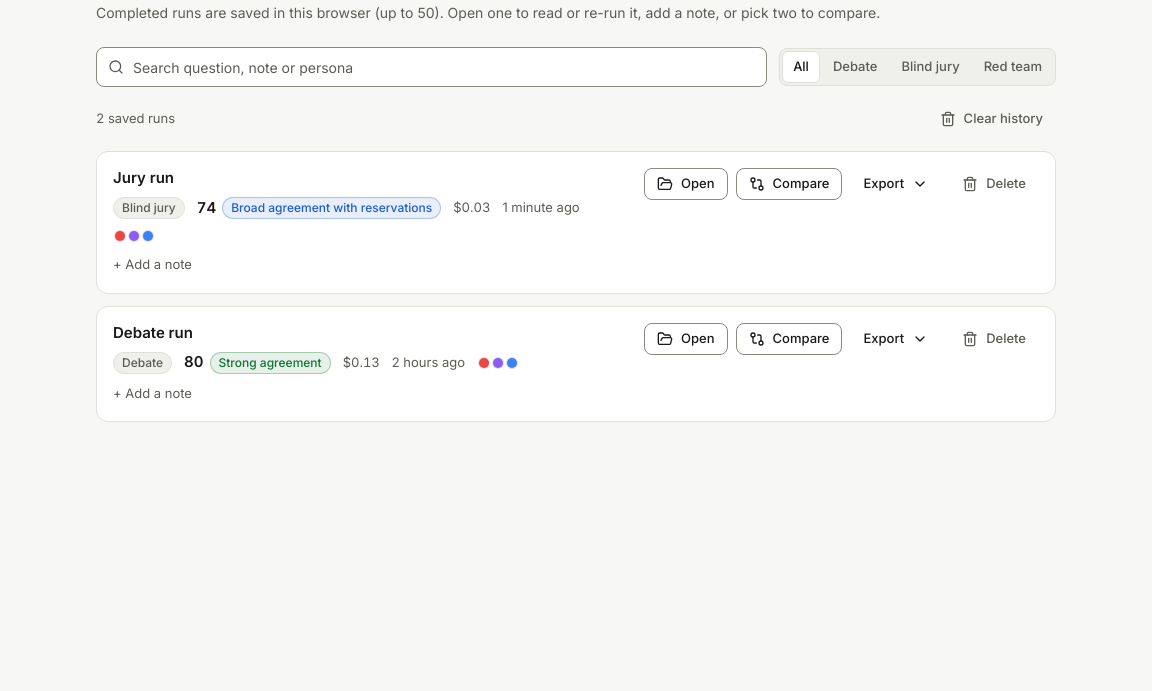
Test: HistoryView › clears history and any open comparison
Click the button "Compare" in the row of "74": (789, 184) [736, 168, 842, 200]
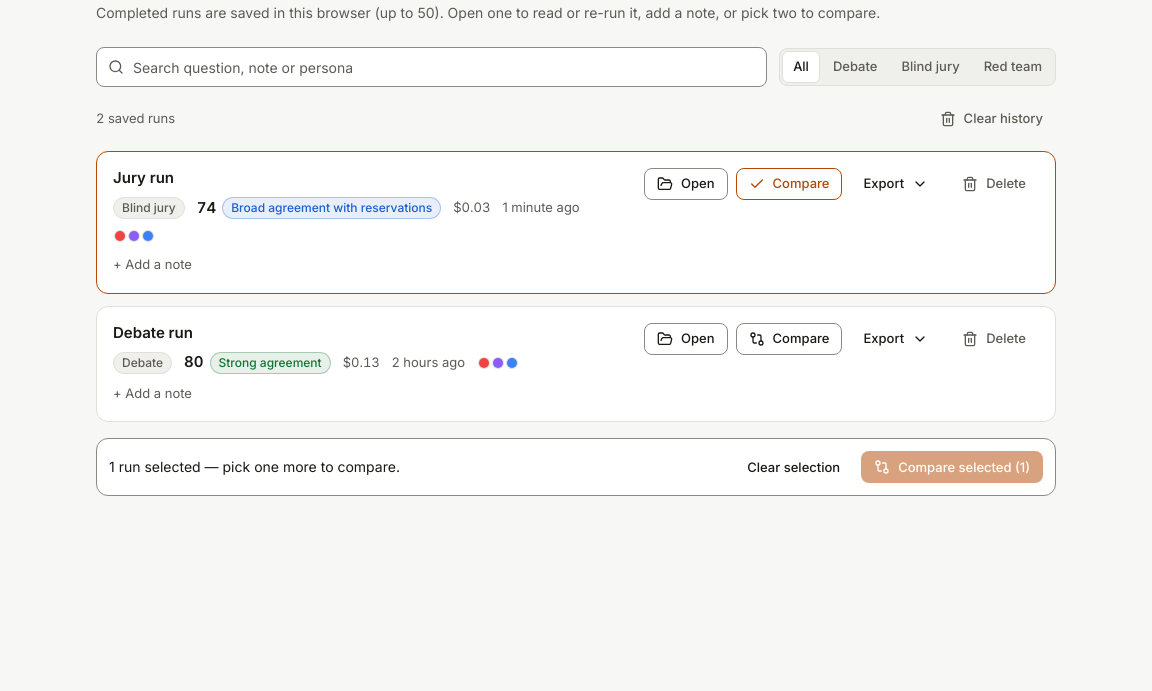
Click the button "Compare" in the row of "80": (789, 339) [736, 323, 842, 355]
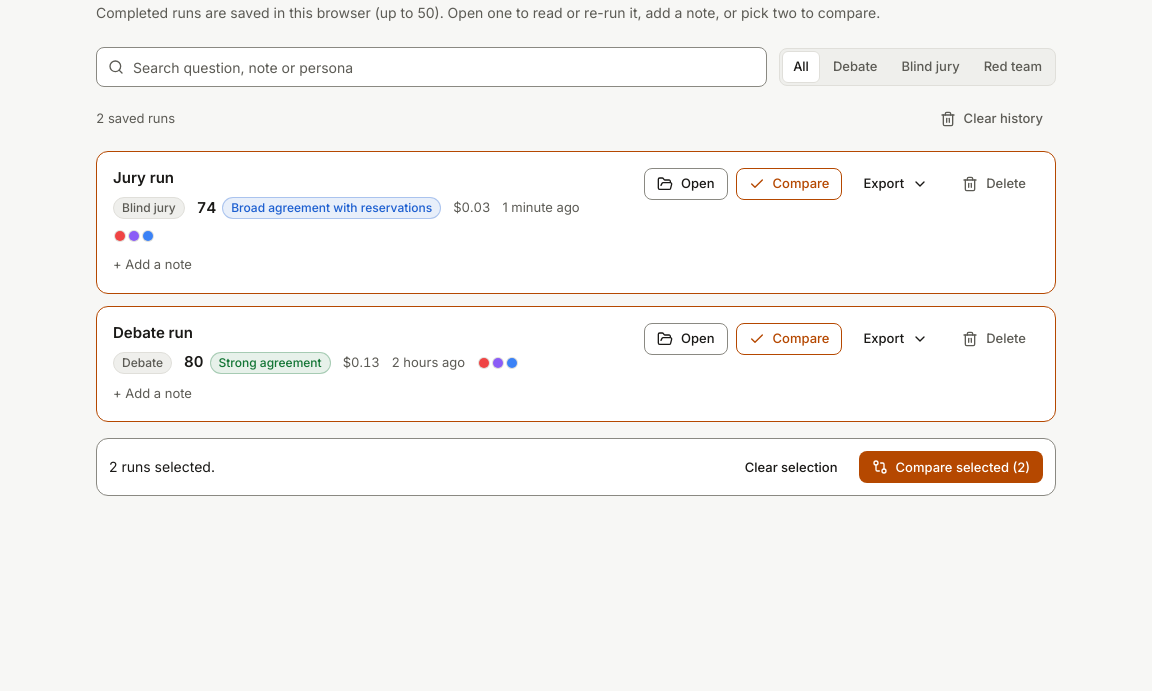
Click the button "Compare selected (2)": (951, 467) [858, 451, 1043, 483]
(page scrolled)
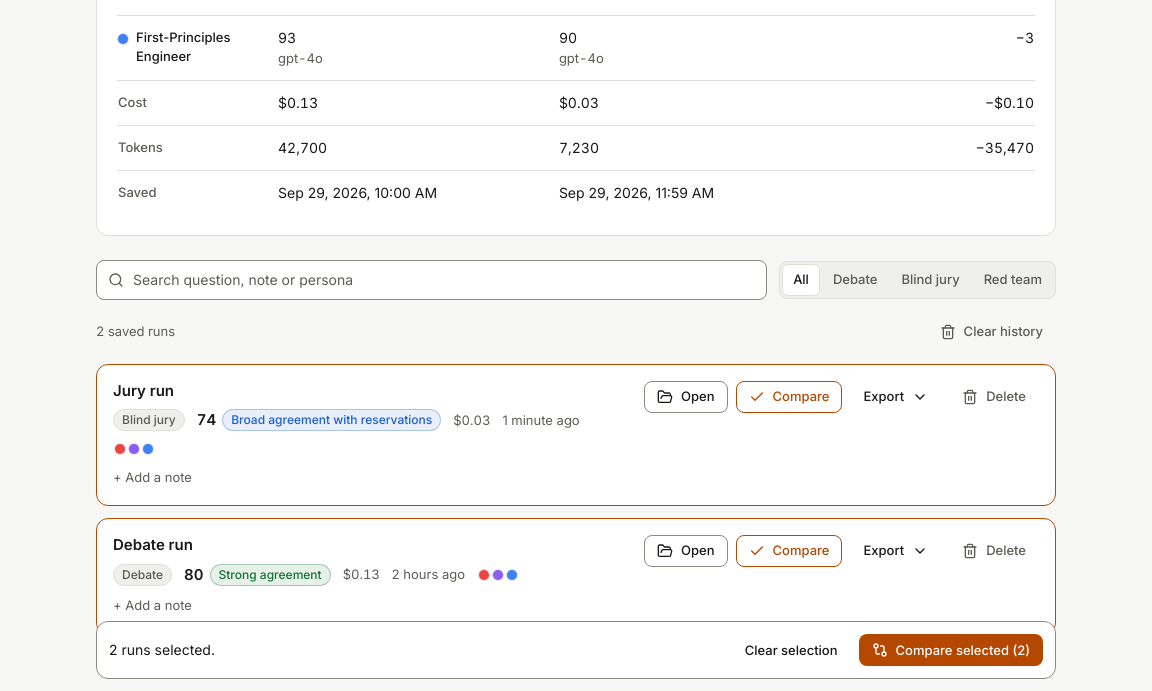
Click the button "Clear history": (991, 332) [927, 316, 1056, 348]
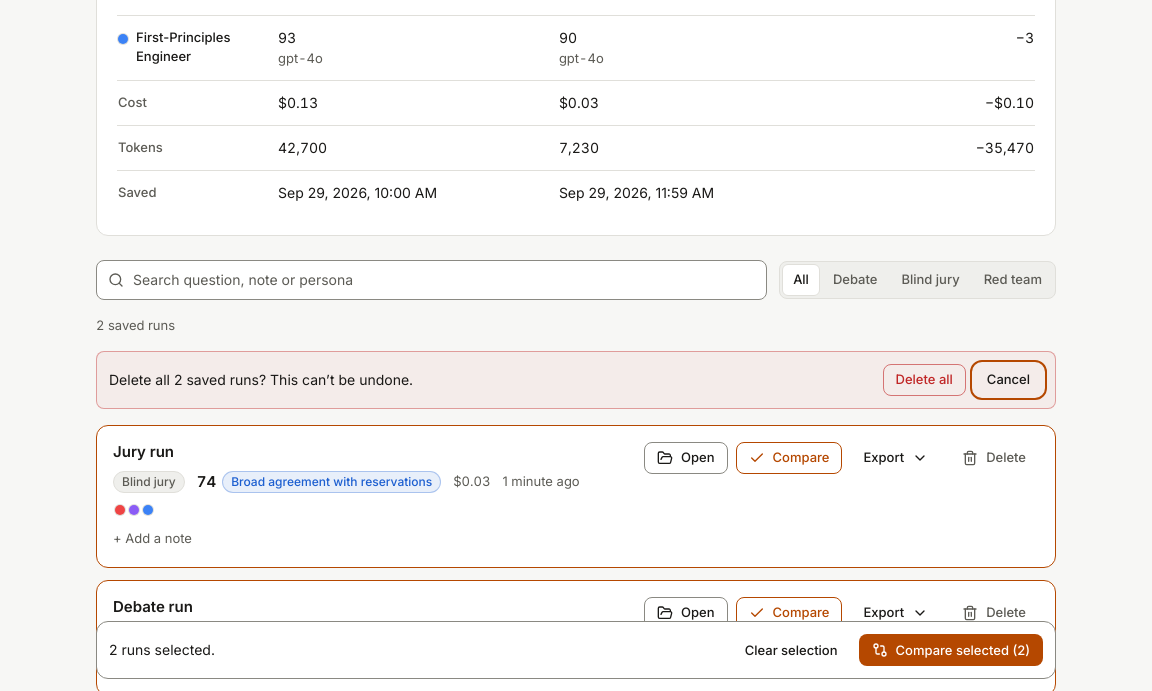
Click the button "Delete all": (924, 380) [883, 364, 966, 396]
(page scrolled)
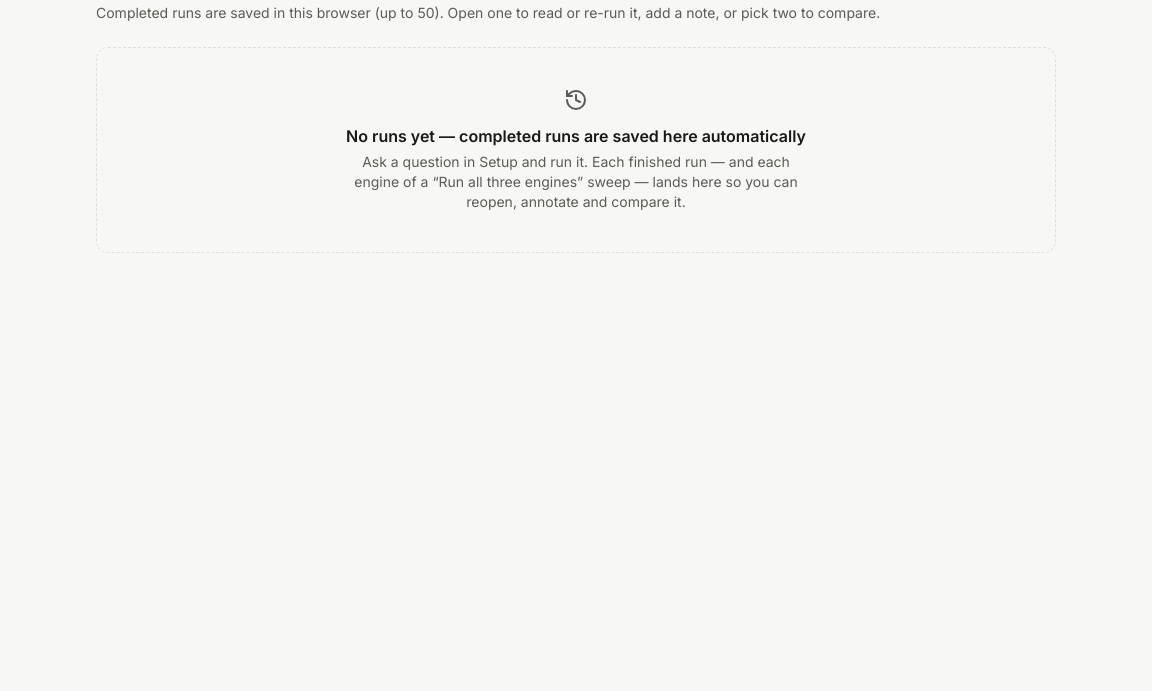
Now the heading "No runs yet — completed runs are saved here automatically" is shown, box [346, 124, 806, 148]
